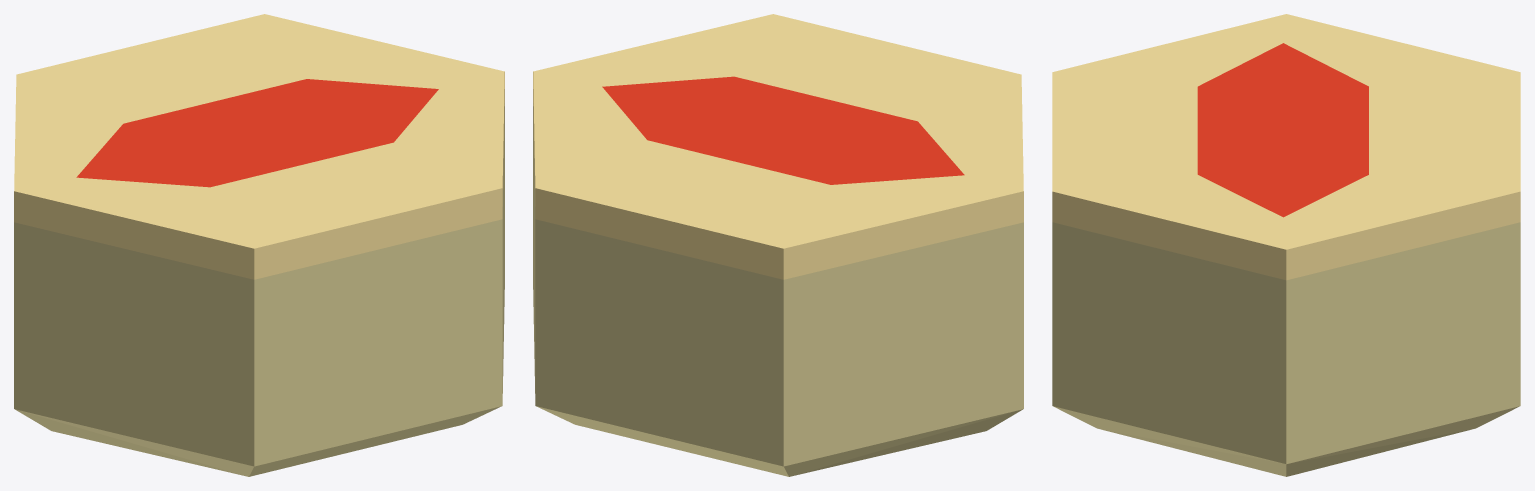
File: Pate.fbx
The picture shows the model from 3 angles, left to right: view 1: azimuth 30°, elevation 25°; view 2: azimuth 150°, elevation 25°; view 3: azimuth 270°, elevation 25°; orthographic projection.
Parts seen in each view (by area): view 1: Pate; view 2: Pate; view 3: Pate.
Part boxes in pixels (x1,y1,x2,y2): Pate: (14,14,504,476); Pate: (533,14,1023,476); Pate: (1052,14,1520,476).
Size of the model in its own units: 0.0825 by 0.04 by 0.0693.
